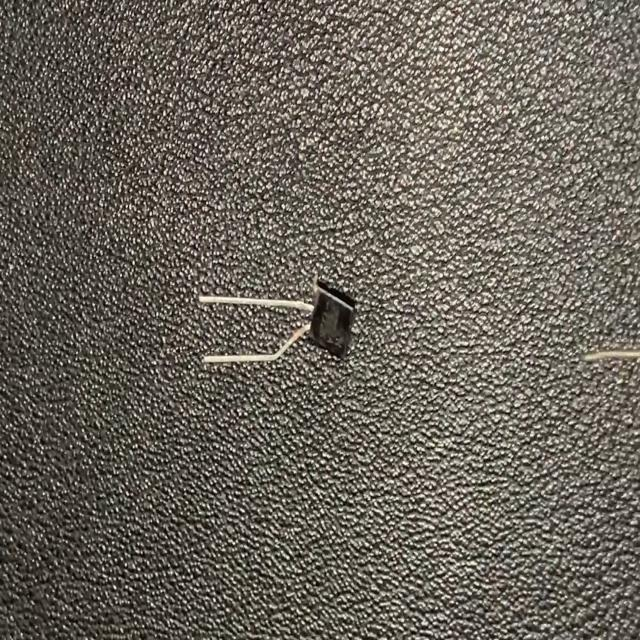missing-leg: (198, 278, 357, 368)
